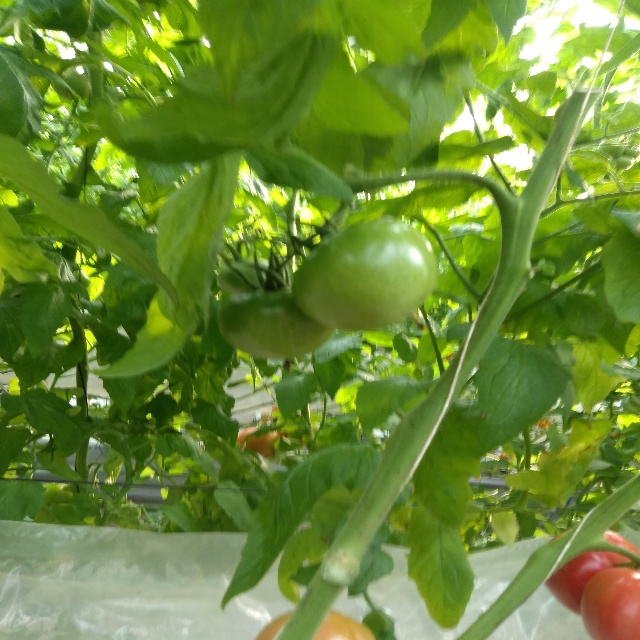b_fully_ripened: (540, 527, 639, 616), (580, 565, 640, 640)
b_green: (292, 217, 438, 331), (218, 285, 335, 358), (218, 258, 275, 293)
b_half_ripened: (255, 606, 375, 640)
